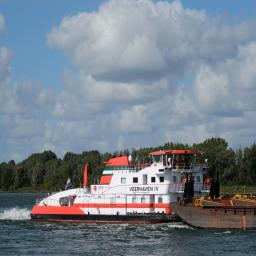tugboat: (29, 149, 223, 227)
